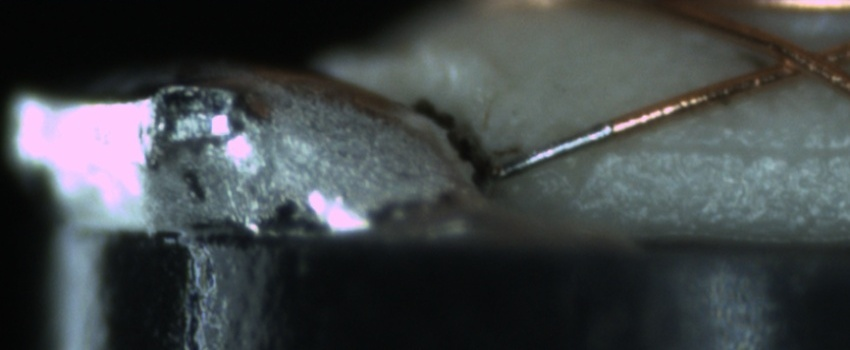CL: (751, 33, 843, 88)
DL: (605, 118, 850, 182)
TS: (492, 119, 615, 181)
